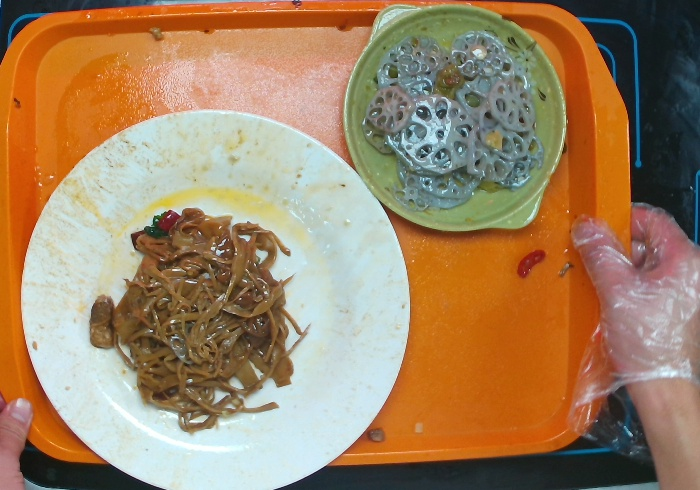NLDX-Da_Yuan_Pan: (21, 102, 424, 490)
NLDX-Lv_Hua_Shuang_Er_Die: (344, 1, 569, 244)
